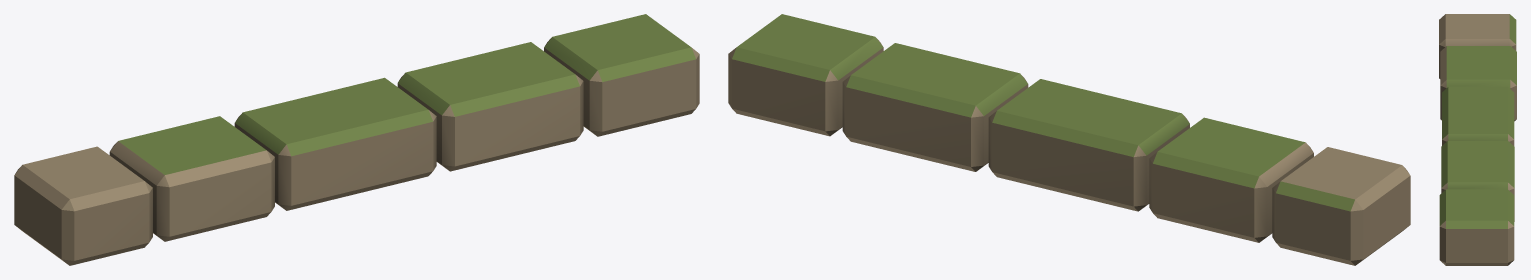
The model's file is RuinWallLow.glb.
The picture shows the model from 3 angles, left to right: view 1: azimuth 30°, elevation 25°; view 2: azimuth 150°, elevation 25°; view 3: azimuth 270°, elevation 25°; orthographic projection. The views are drawn at different scales.
Visible parts, largest first — view 1: Wall.002; view 2: Wall.002; view 3: Wall.002.
Boxes of the visible parts, x1,y1,x2,y2 form: Wall.002: (14, 14, 699, 265); Wall.002: (728, 14, 1410, 265); Wall.002: (1439, 14, 1516, 265).
Size of the model in its own units: 10.92 by 1.09 by 1.69.
